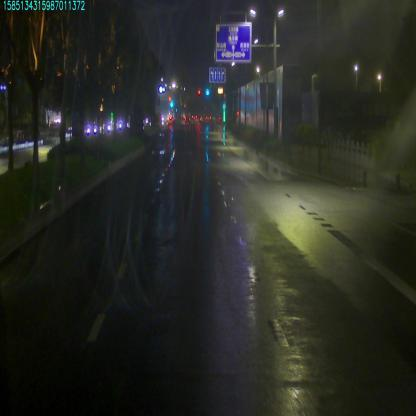traffic-light: (204, 85, 210, 98), (197, 88, 201, 96)
